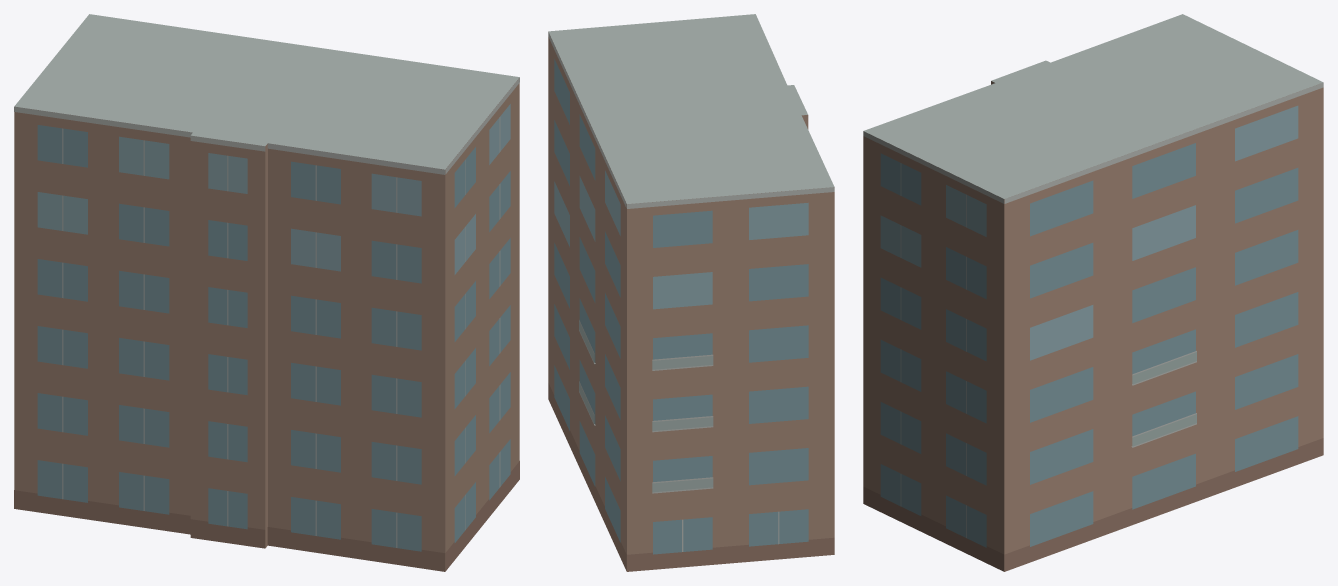
The model's file is survey-upis-32627151.glb.
3 renders of one model, left to right at view 1: azimuth 30°, elevation 25°; view 2: azimuth 150°, elevation 25°; view 3: azimuth 270°, elevation 25°, orthographic. The views are drawn at different scales.
Visible parts, largest first — view 1: survey-upis-32627151.tmp; view 2: survey-upis-32627151.tmp; view 3: survey-upis-32627151.tmp.
Boxes of the visible parts, <box> form: survey-upis-32627151.tmp: <box>14,14,519,571</box>; survey-upis-32627151.tmp: <box>548,14,834,571</box>; survey-upis-32627151.tmp: <box>863,14,1323,571</box>.
Size of the model in its own units: 19.5 by 18.3 by 20.49.
